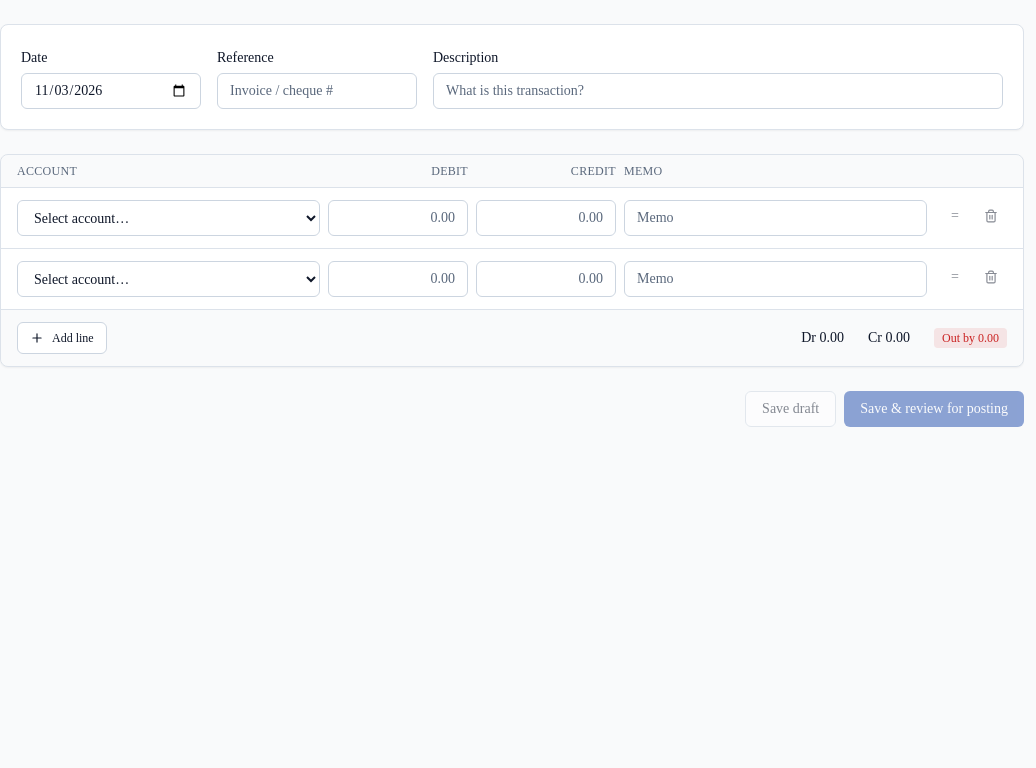
Test: EntryForm contacts › requires a customer on a receivable line before saving
Type "Invoice" into the field labelled "Description" at point(718, 91), box 433,73 -> 1003,109
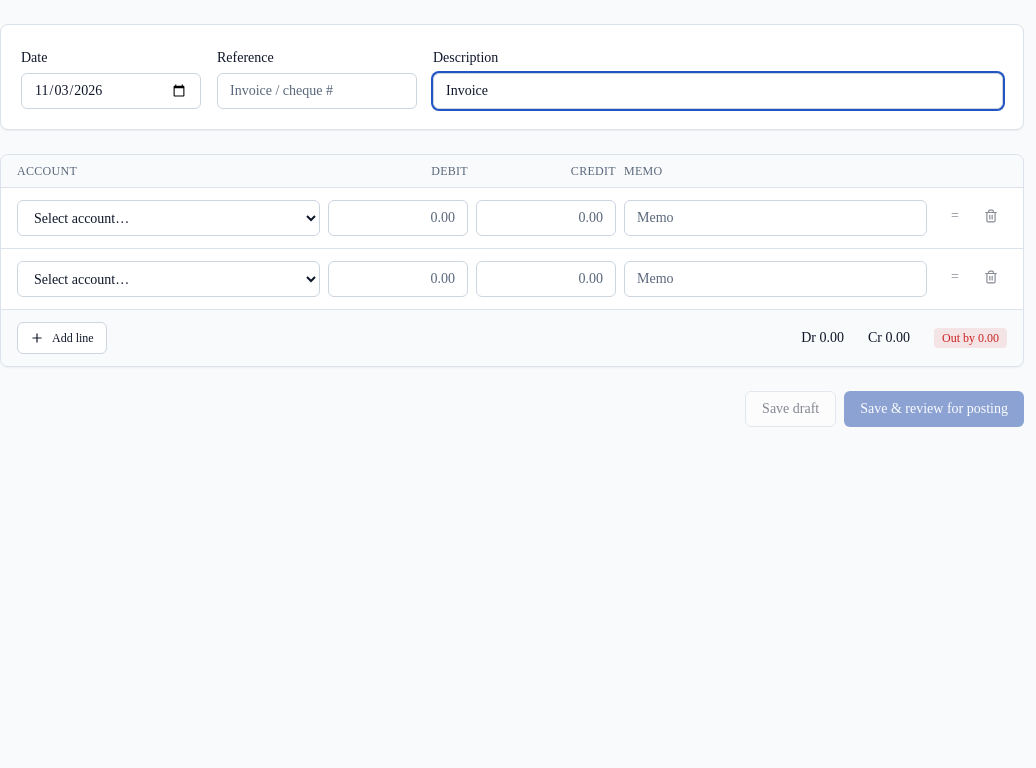
Select "1210 · Acct 1210" in the dropdown named "Line 1 account" at point(168, 218), box 17,200 -> 320,236
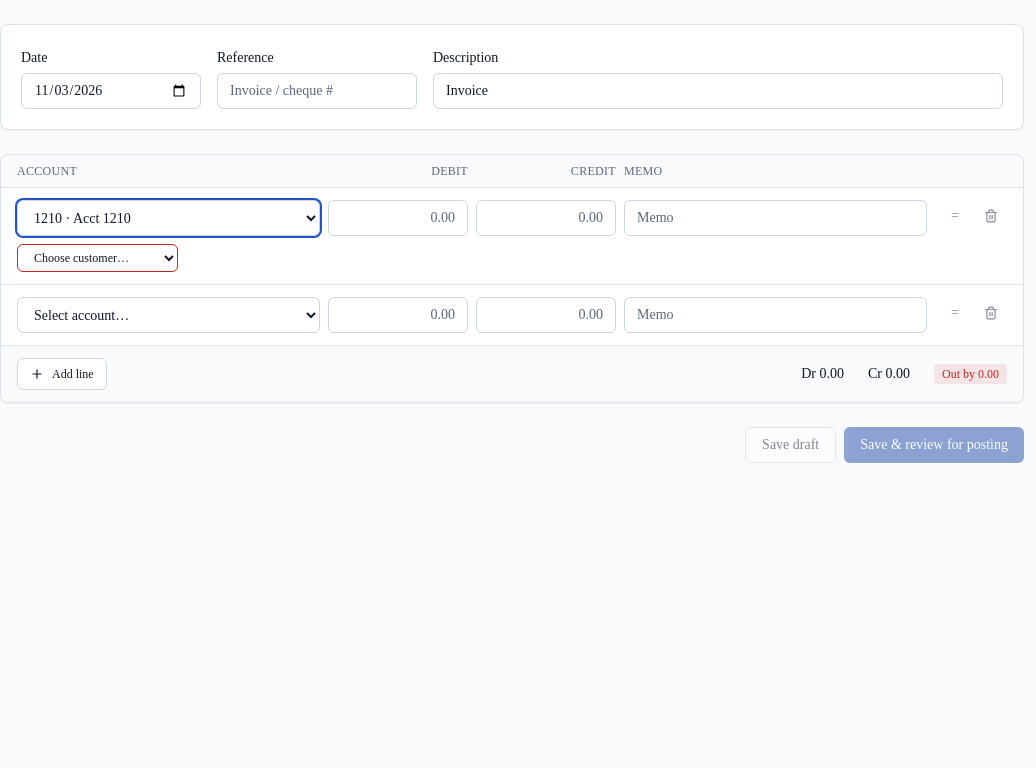
Type "100" into the field named "Line 1 debit" at point(398, 218), box 328,200 -> 468,236
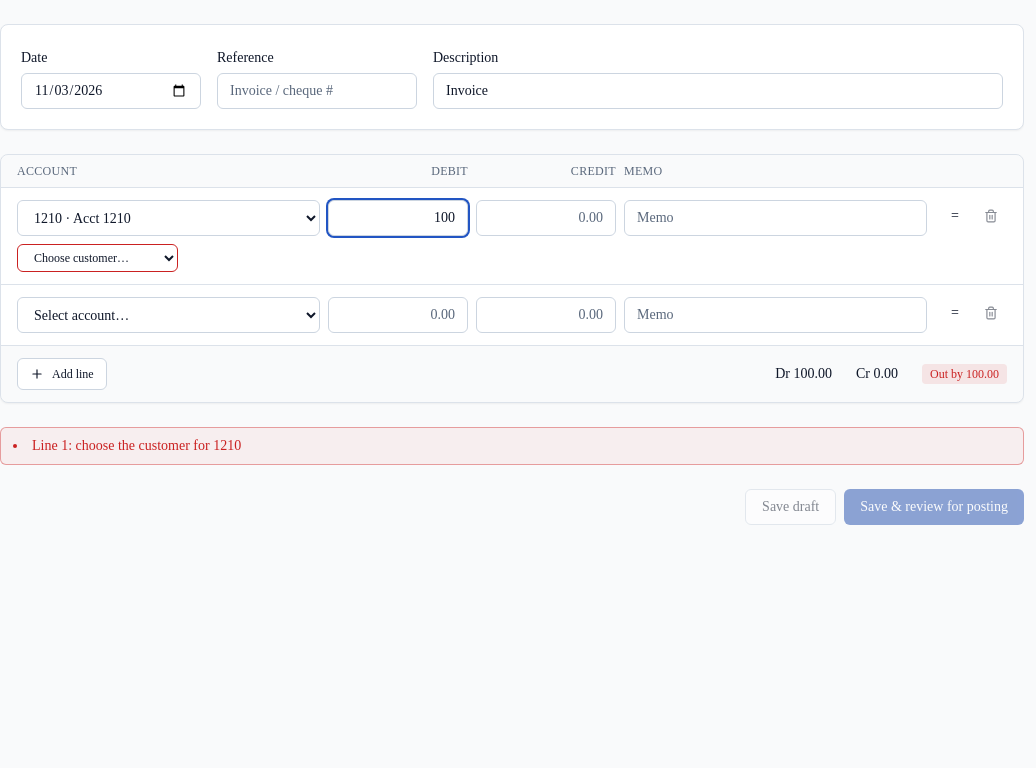
Select "4010 · Acct 4010" in the dropdown named "Line 2 account" at point(168, 315), box 17,297 -> 320,333
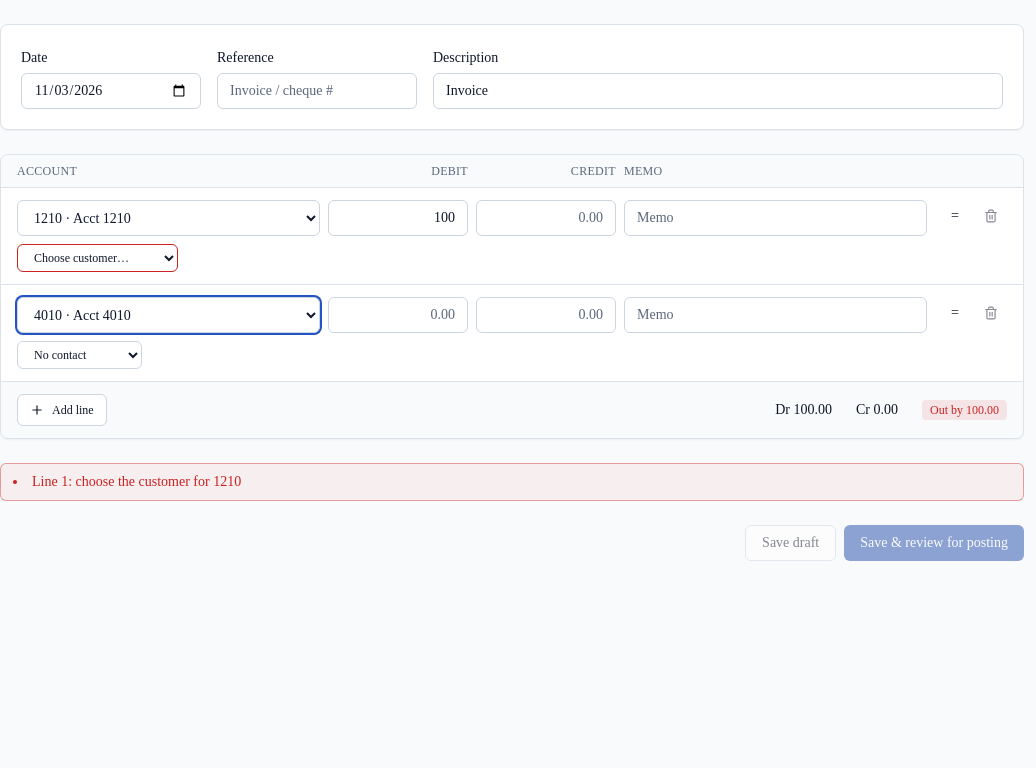
Type "100" into the field named "Line 2 credit" at point(546, 315), box 476,297 -> 616,333
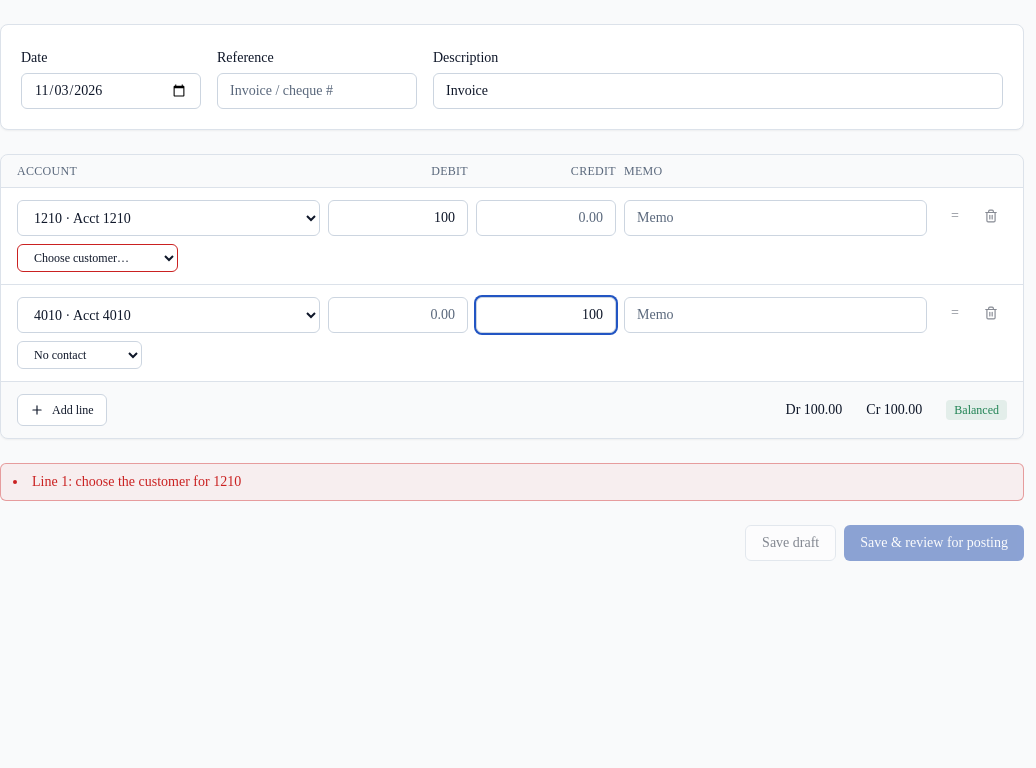
Expected: the button "Save draft" is disabled, 745,525 -> 836,561
Expected: the list item "Line 1: choose the customer for 1210" is shown, 32,474 -> 241,489
Select "Customer A" in the dropdown named "Line 1 contact" at point(98, 258), box 17,244 -> 178,272
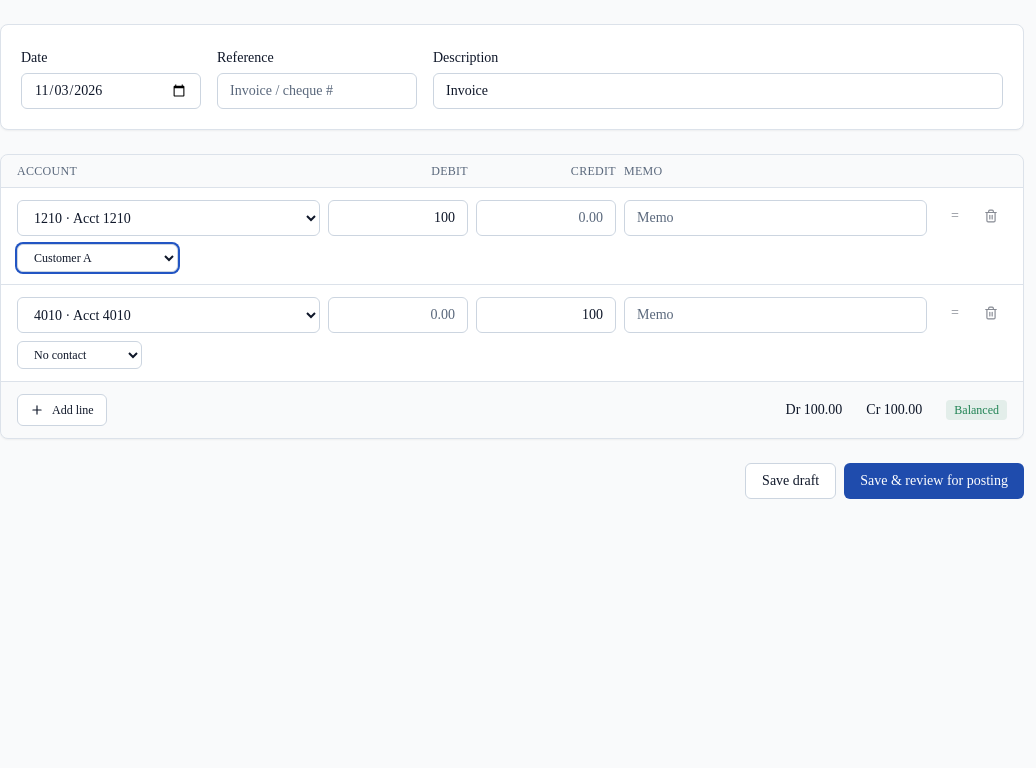
Expected: the button "Save draft" is enabled, 745,463 -> 836,499
